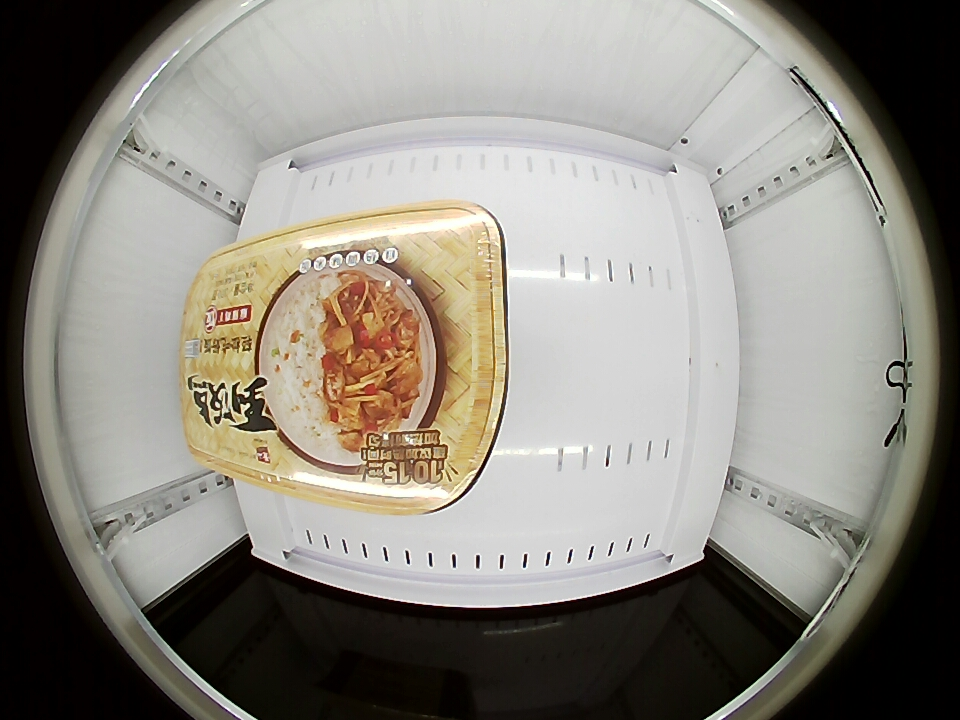daofandian4: (178, 207, 510, 515)
